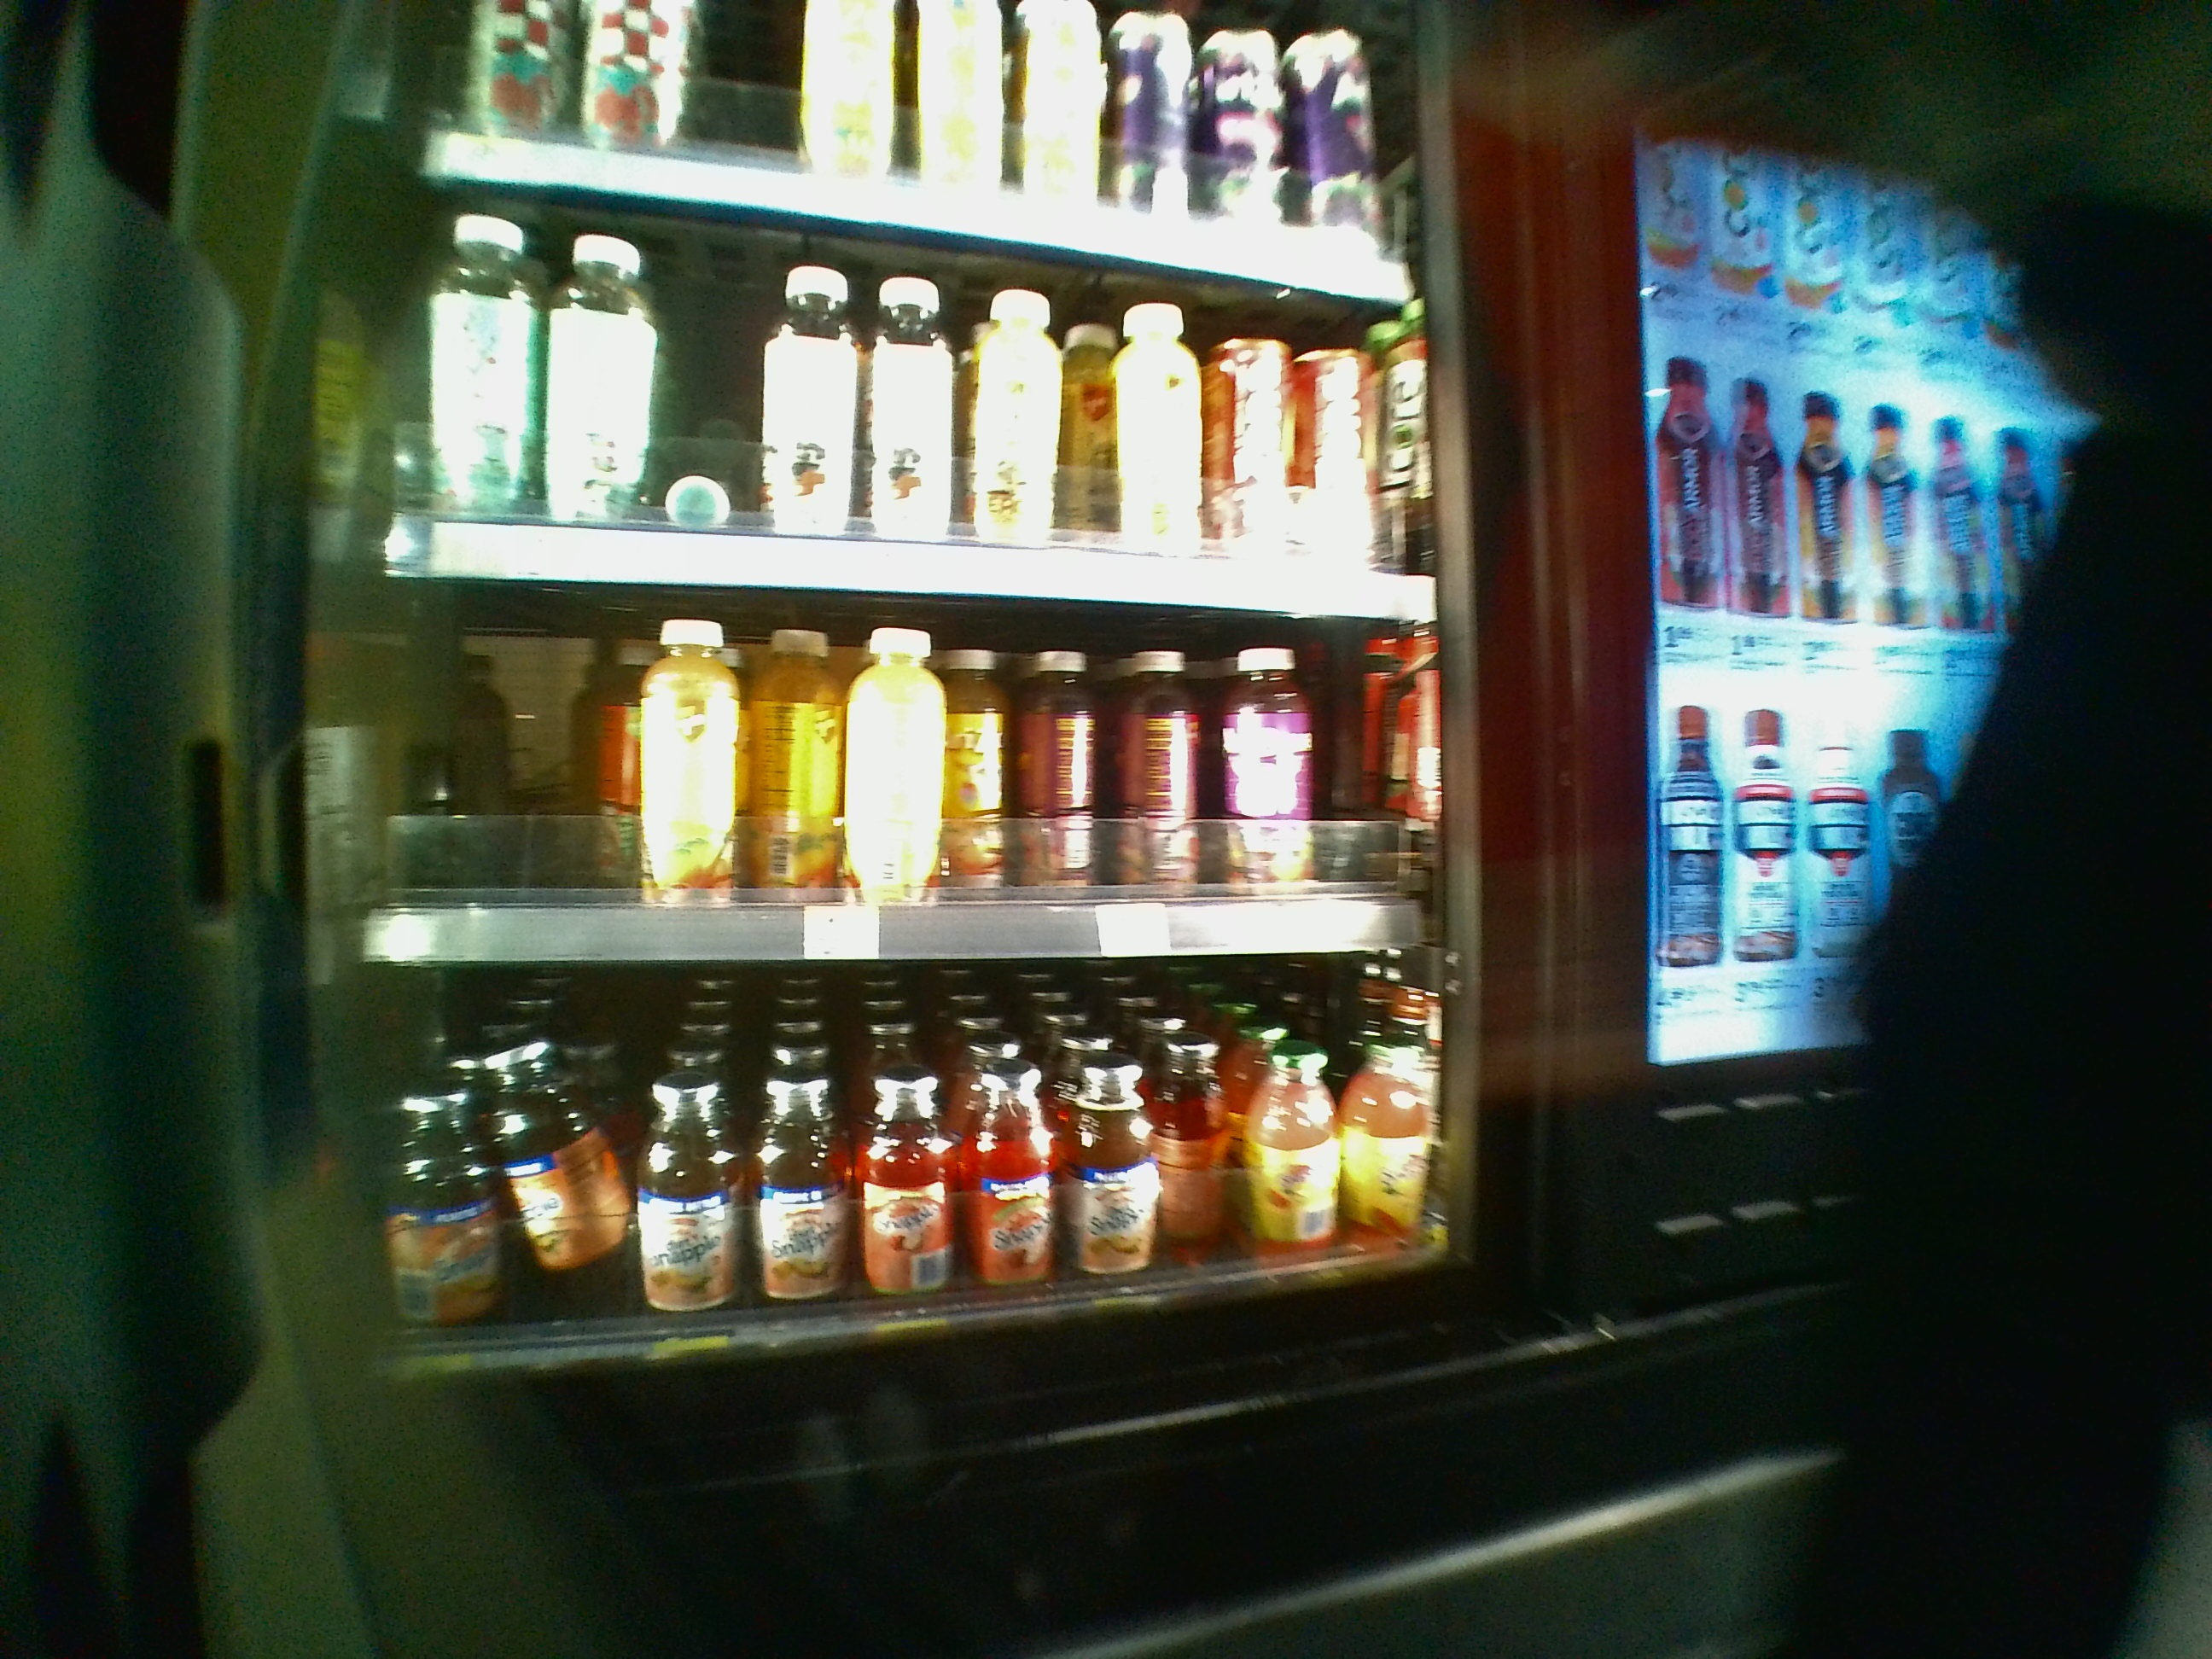shelf: (355, 964, 1451, 1371), (350, 573, 1444, 955)
